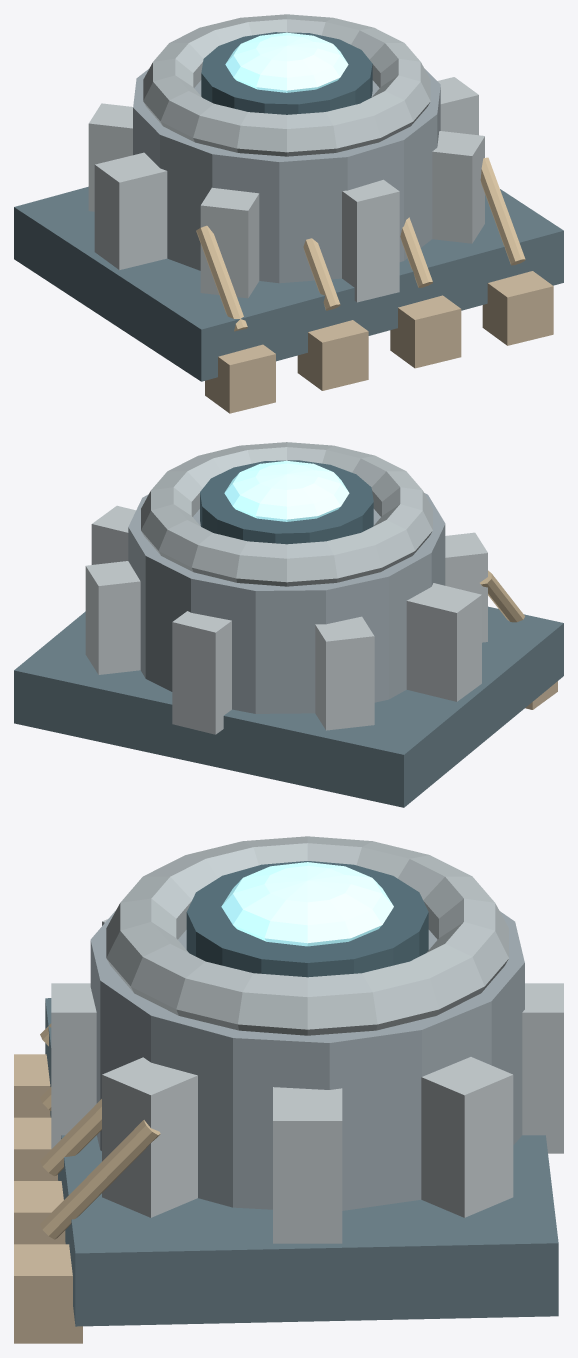
The model's file is electronics_high.gltf.
3 renders of one model, top to bottom at view 1: azimuth 30°, elevation 25°; view 2: azimuth 150°, elevation 25°; view 3: azimuth 270°, elevation 25°, orthographic. The views are drawn at different scales.
Parts seen in each view (by area): view 1: electronics_high; view 2: electronics_high; view 3: electronics_high.
Boxes of the visible parts, bbox=[...] form: electronics_high: bbox=[14, 14, 563, 413]; electronics_high: bbox=[14, 442, 563, 807]; electronics_high: bbox=[14, 836, 563, 1343].
Bounding box in the file's own units: 1.09 × 0.675 × 0.955.
